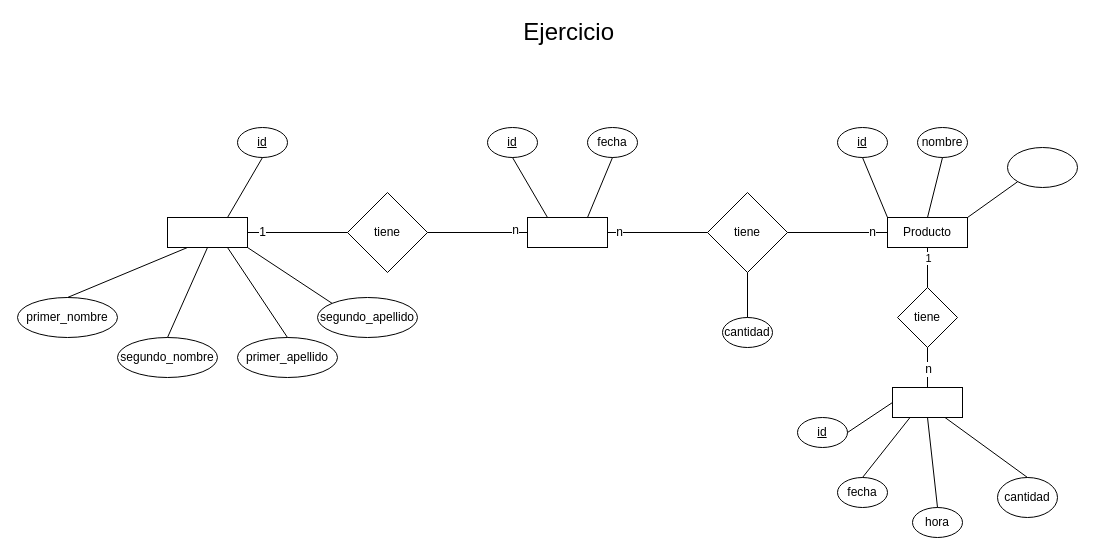
Some shapes in this 1095 by 555 pixel diagram are drawn without their labels. The centre of each missing label's shape, as x and y in pixels:
Cliente: [207,232]
descripcion: [1042,167]
Stock: [927,402]
Venta: [567,232]
